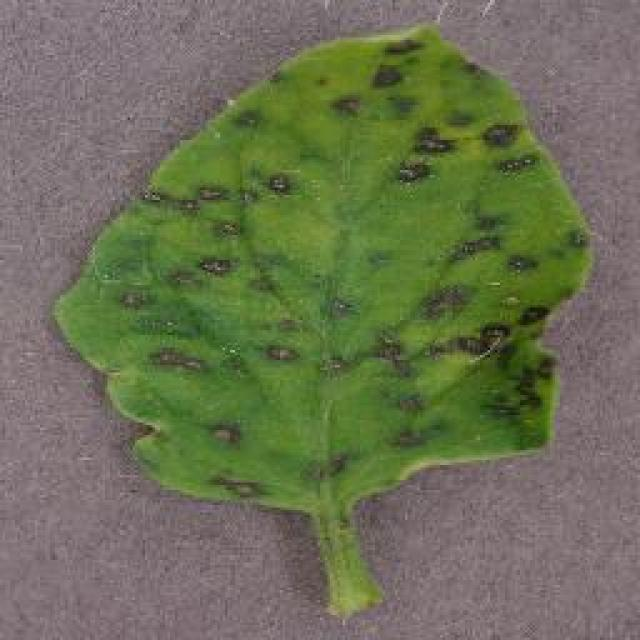Tomato___Septoria_leaf_spot: (55, 28, 590, 612)
